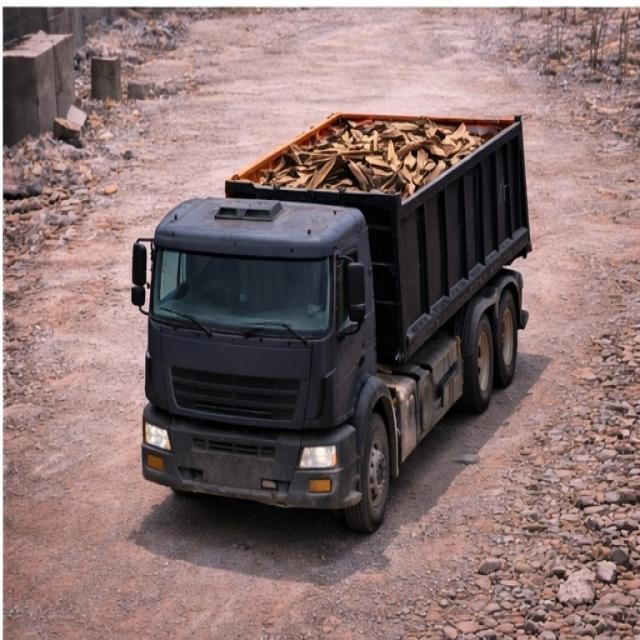trailer: (231, 115, 519, 190)
truck: (130, 102, 535, 522)
